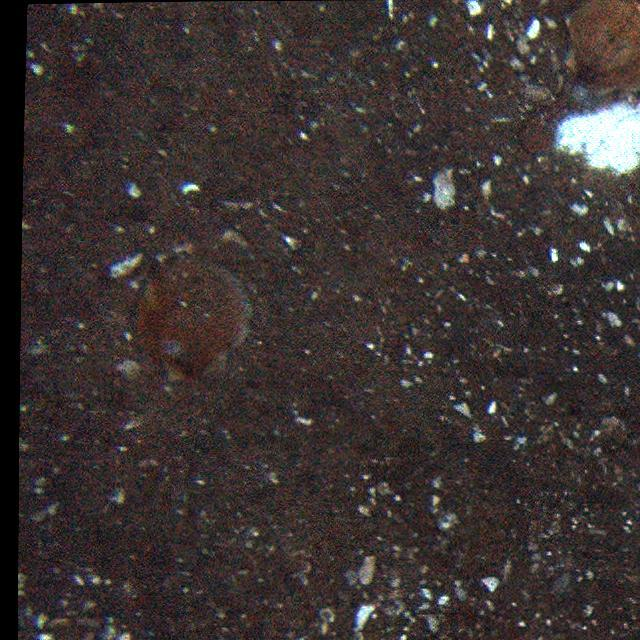scallop: (128, 254, 258, 382), (568, 0, 640, 95)
